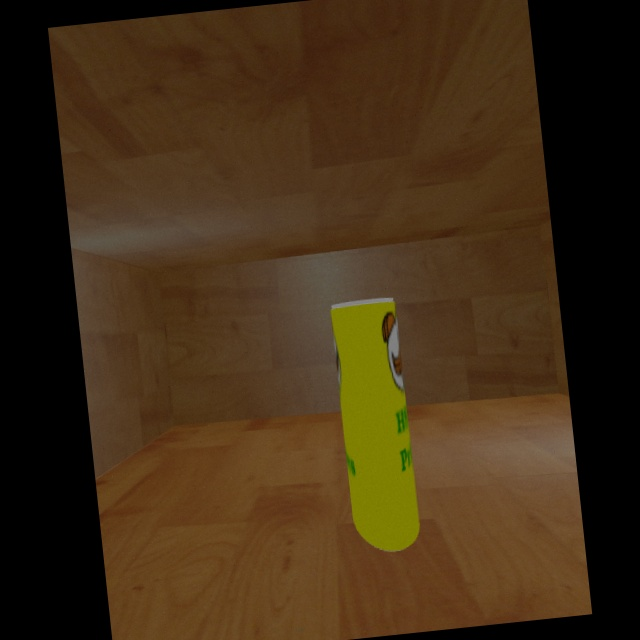chipsdose_gelb: (330, 297, 421, 552)
